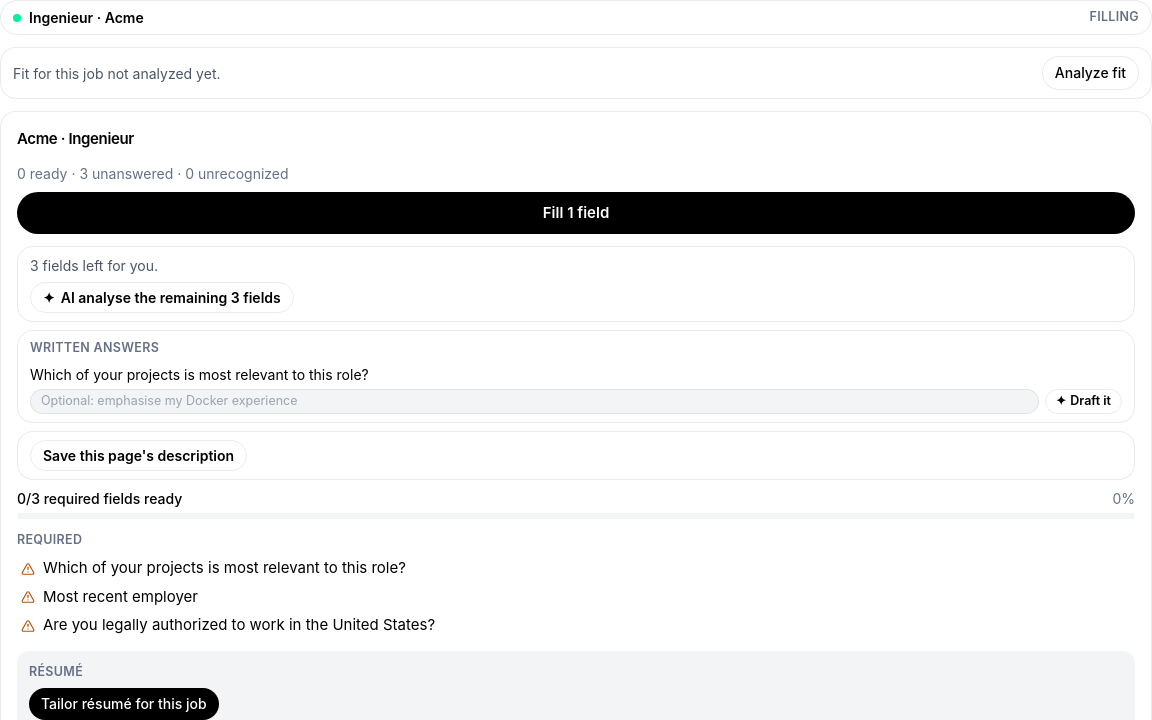
what comes back › lets a suggestion be ignored without writing it
Expected: the text "Ingenieur · Acme" is shown, [29, 9, 144, 26]
Click the button "✦ AI analyse the remaining 3 fields".
click(162, 298)  # box [30, 282, 294, 313]
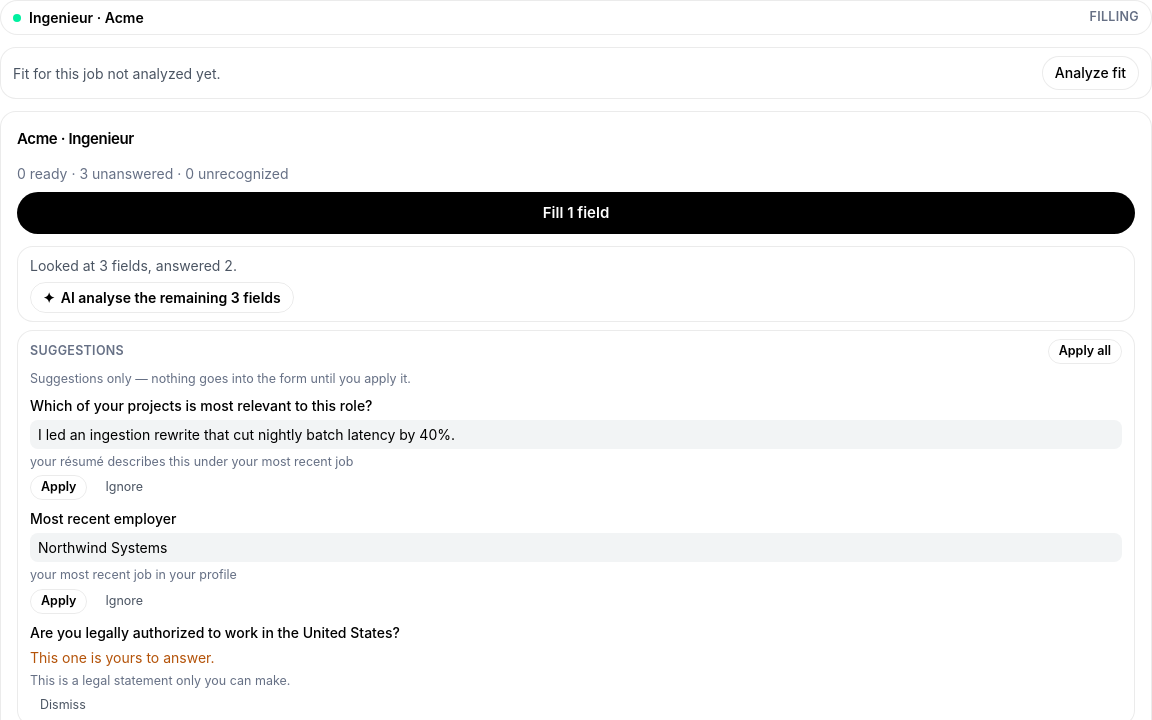
Click the button "Ignore" below "Northwind Systems".
click(124, 601)  # box [95, 589, 153, 614]
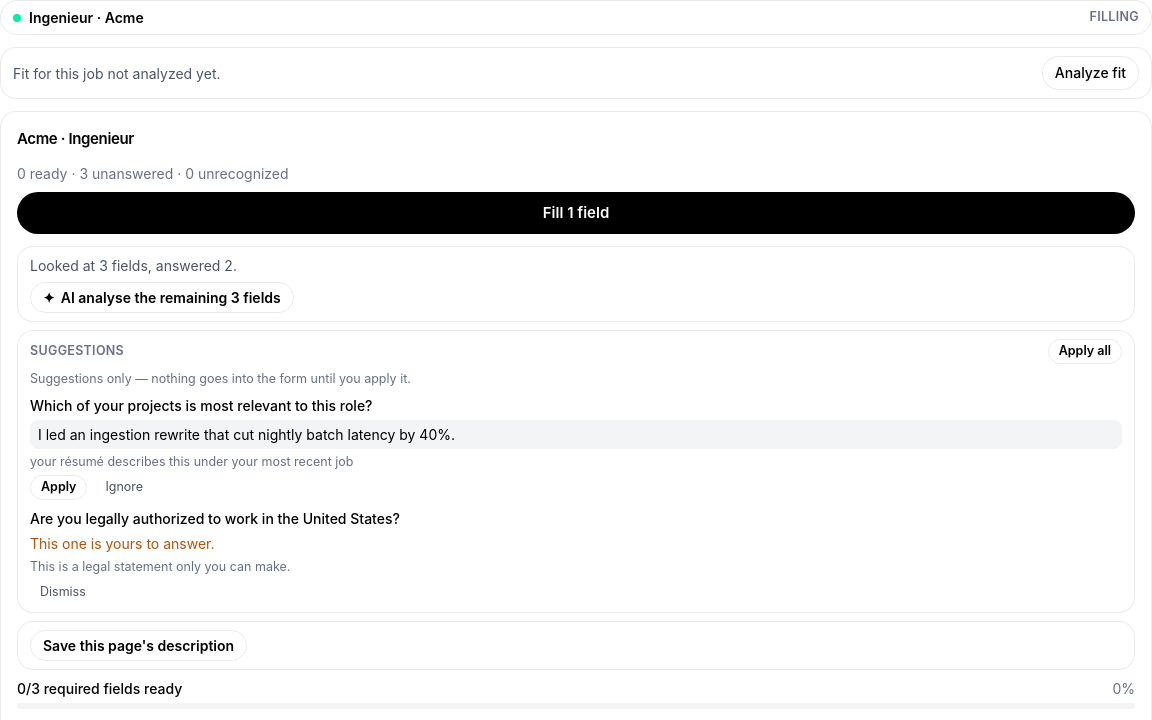
Expected: the text "Northwind Systems" is gone
